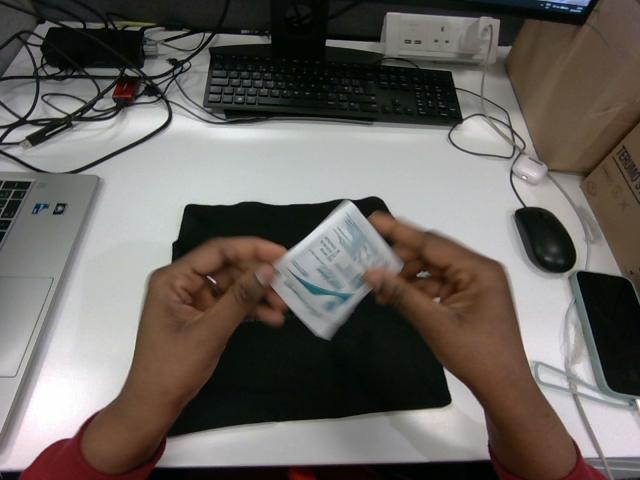gauze: (273, 201, 402, 338)
